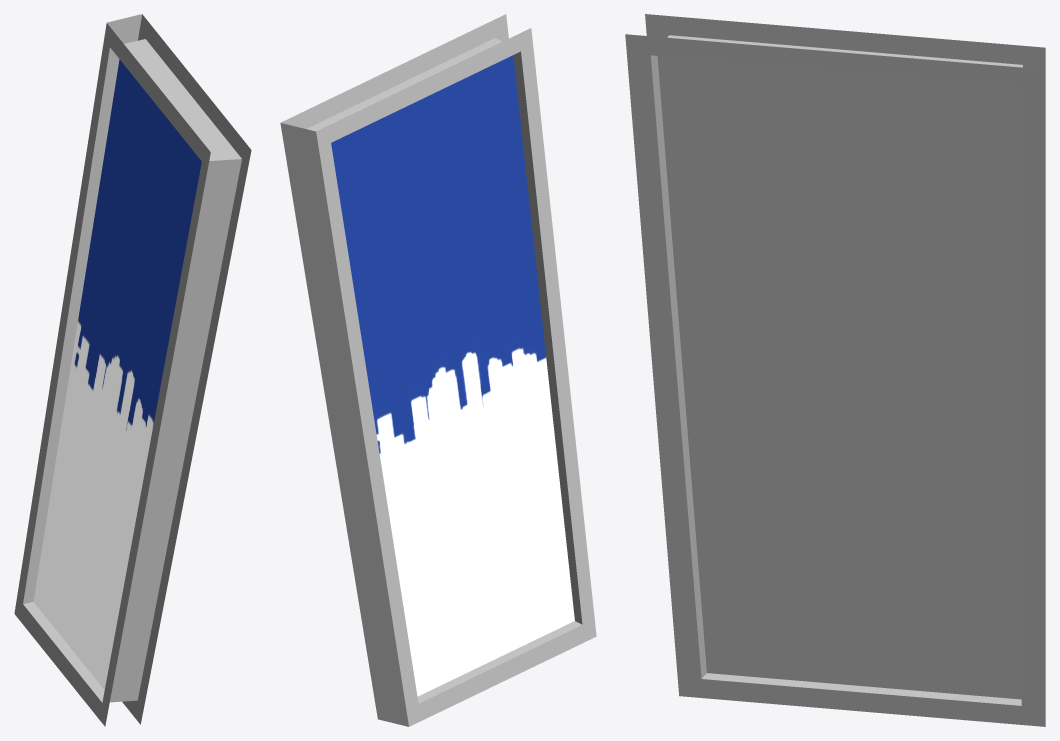
File: mdl_zesty_room_door.gltf
3 renders of one model, left to right at view 1: azimuth 30°, elevation 25°; view 2: azimuth 150°, elevation 25°; view 3: azimuth 270°, elevation 25°, orthographic. The views are drawn at different scales.
Parts seen in each view (by area): view 1: mdl_zesty_room_door; view 2: mdl_zesty_room_door; view 3: mdl_zesty_room_door.
Boxes of the visible parts, x1=… form: mdl_zesty_room_door: x1=14, y1=14, x2=251, y2=726; mdl_zesty_room_door: x1=280, y1=14, x2=596, y2=726; mdl_zesty_room_door: x1=625, y1=14, x2=1045, y2=726.
Bounding box in the file's own units: 1.05 × 3.25 × 1.73.
Materials: 2 (1 with a texture image).
